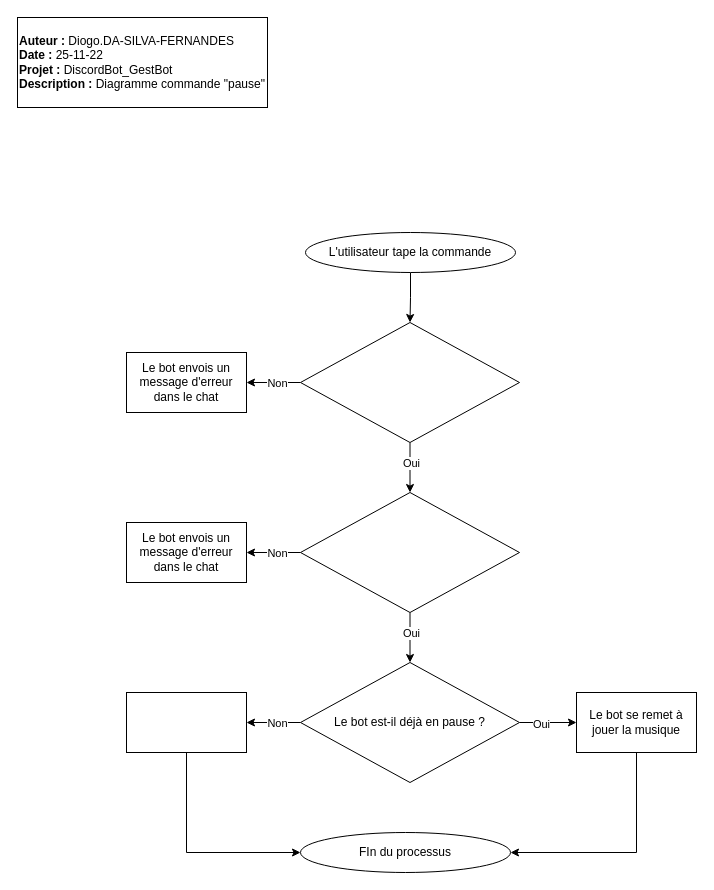
The diagram is 714 pixels wide and 890 high, and some of its shapes have lost their labels. Here are the shapes that lost their labels. From the top down, the centre of each, then its label:
At point 410,382: "Le bot est-il connecté à un salon vocal ?".
At point 410,552: "L'utilisateur est-il dans le meme salon vocal que le bot ?".
At point 186,722: "Le bot est mis en pause".
